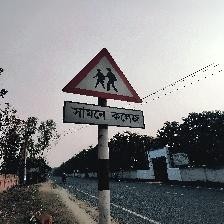College-in-front: (52, 40, 182, 154)
